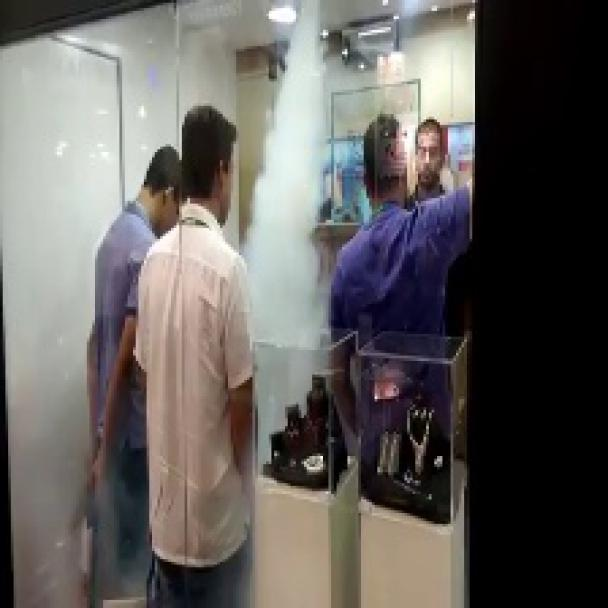smoke: (136, 0, 449, 481)
